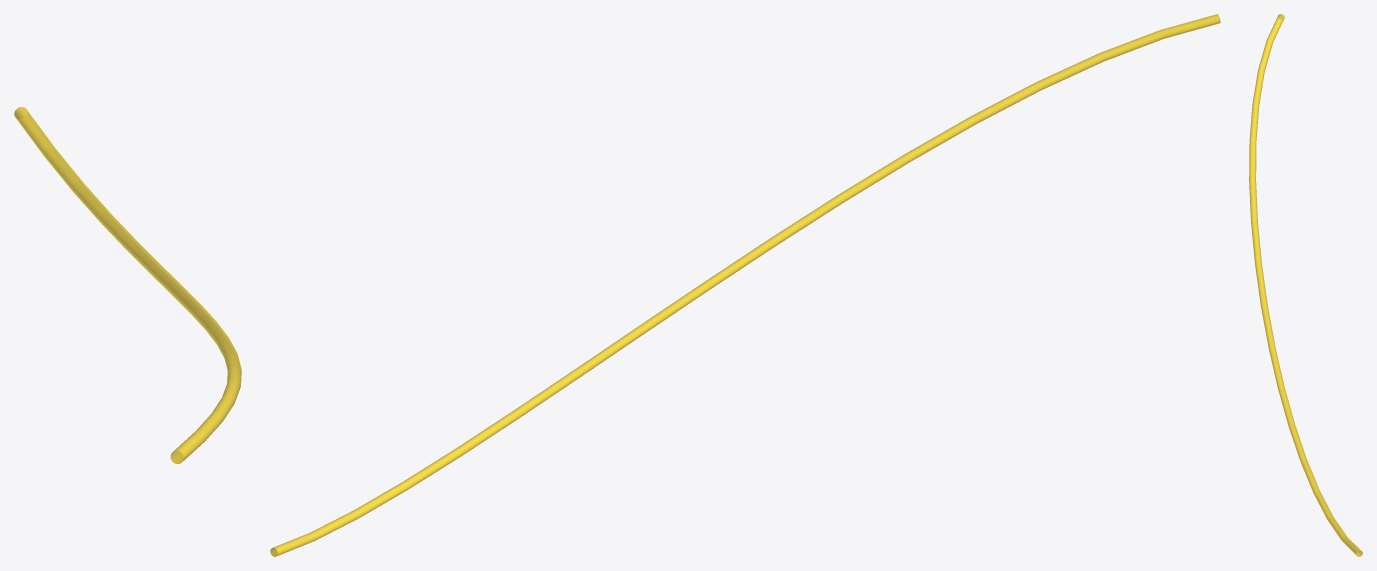
Rendered from Event_17758602_track_161.fbx.
3 renders of one model, left to right at view 1: azimuth 90°, elevation 25°; view 2: azimuth 210°, elevation 25°; view 3: azimuth 270°, elevation 25°, orthographic. The views are drawn at different scales.
Visible parts, largest first — view 1: Model; view 2: Model; view 3: Model.
Boxes of the visible parts, x1,y1,x2,y2 form: Model: (14,107,241,463); Model: (270,14,1220,556); Model: (1249,14,1362,556).
Bounding box in the file's own units: 4.82 × 1.21 × 0.6525.
